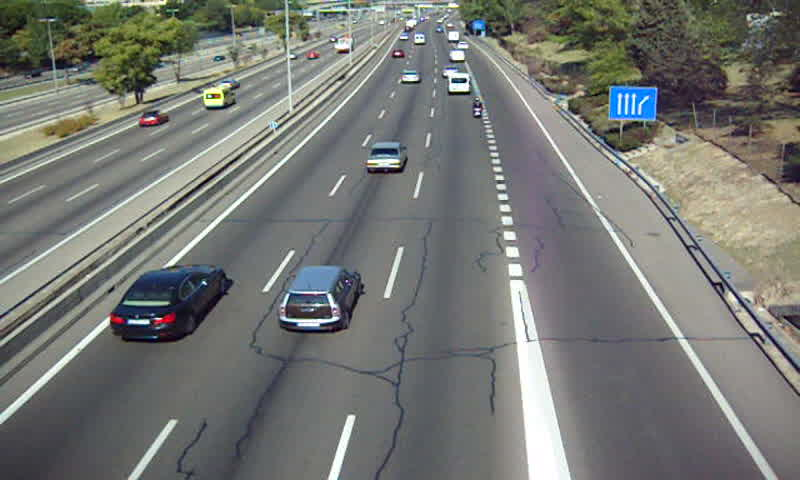car: (109, 264, 226, 340), (278, 266, 359, 331), (366, 142, 406, 173), (400, 69, 420, 84), (442, 65, 457, 78)
motorcycle: (472, 97, 484, 118)
van: (448, 72, 471, 94), (450, 51, 467, 63)
